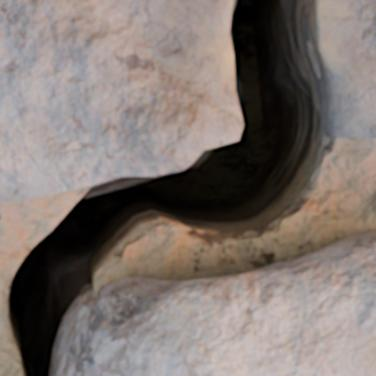brick: (62, 233, 375, 375)
broken_brick: (0, 0, 242, 203), (322, 0, 375, 140)
crack: (2, 0, 373, 375)
